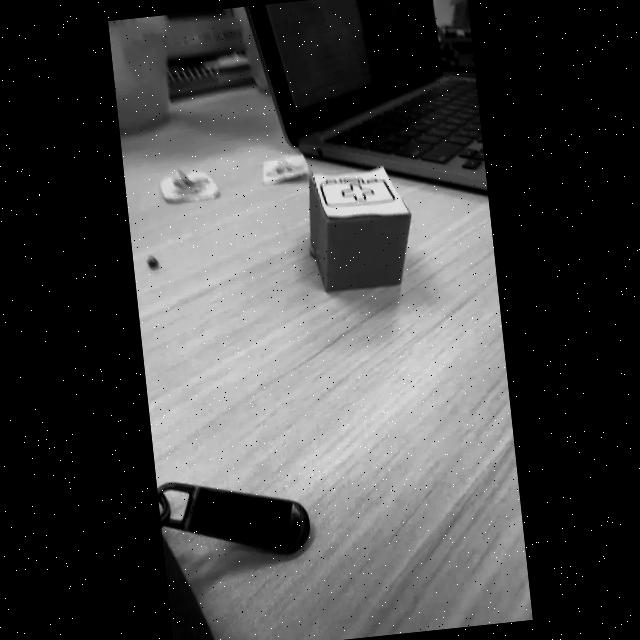Medkit: (319, 175, 394, 206)
